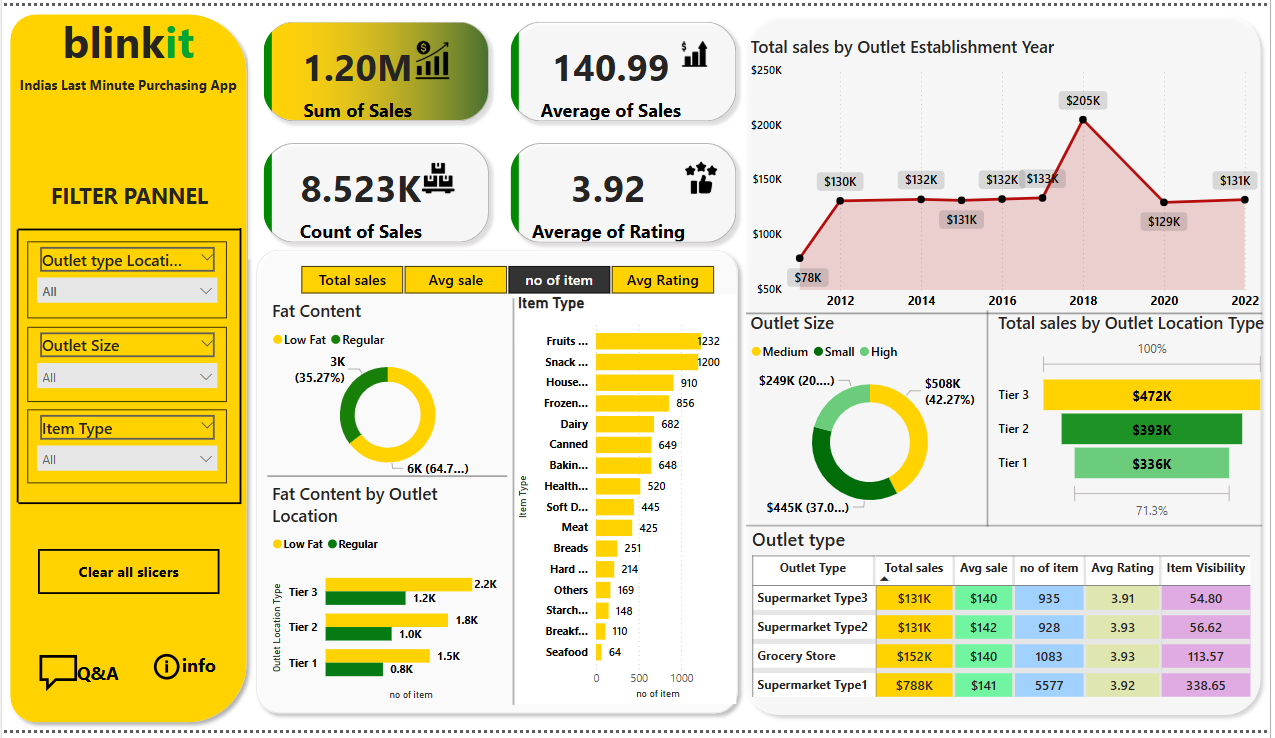

What the dashboard file says about the page in this screenshot:
{"tool":"powerbi","page":{"name":"Page 1","canvas":[1400,800],"ordinal":5},"visuals":[{"type":"shape","box":[0,0,279,799.9],"z":0},{"type":"textbox","box":[0,0,279,90.9],"z":1000},{"type":"textbox","box":[0,70.3,279,43.4],"z":2000},{"type":"cardVisual","fields":{"Data":["Sum(Table1.Sales)","Avg(Table1.Sales)","CountNonNull(Table1.Sales)","Avg(Table1.Rating)"]},"box":[271.6,0,556.5,279.9],"z":3000},{"type":"shape","box":[271.6,260,549.8,530],"z":4000},{"type":"donutChart","title":" Fat Content","fields":{"Y":["Table1.no of item"],"Category":["Table1.Item Fat Content"]},"box":[292.5,323.1,265.3,202.3],"z":5000},{"type":"slicer","fields":{"Values":["metrics  2.metrics "]},"box":[304.4,280.6,505,37.4],"z":6000},{"type":"clusteredBarChart","title":"Fat Content by Outlet Location ","fields":{"Y":["Table1.no of item"],"Category":["Table1.Outlet Location Type"],"Series":["Table1.Item Fat Content"]},"box":[292.5,525.4,258.5,246.6],"z":7000},{"type":"barChart","title":" Item Type","fields":{"Y":["Table1.no of item"],"Category":["Table1.Item Type"]},"box":[564.3,318.3,246,452.7],"z":8000},{"type":"shape","box":[293.1,513.4,265,11.6],"z":9000},{"type":"shape","box":[558.1,323,13.2,448.8],"z":10000},{"type":"shape","box":[810.6,0,588.8,791.9],"z":11000},{"type":"lineChart","fields":{"Y":["Table1.Total sales"],"Category":["Table1.Outlet Establishment Year"]},"box":[820.9,31.1,572.2,313],"z":12000},{"type":"donutChart","title":"Outlet Size","fields":{"Category":["Table1.Outlet Size"],"Y":["Table1.Total sales"]},"box":[820.9,335.8,273.6,236.3],"z":13000},{"type":"shape","box":[821.5,303.1,569.7,72.9],"z":14000},{"type":"funnel","fields":{"Category":["Table1.Outlet Location Type"],"Y":["Table1.Total sales"]},"box":[1094.6,335.8,304.7,236.3],"z":15000},{"type":"shape","box":[1081.5,336.2,13.2,238.5],"z":16000},{"type":"shape","box":[820.9,570.1,570.1,8.3],"z":17000},{"type":"pivotTable","title":"Outlet type","fields":{"Rows":["Table1.Outlet Type"],"Values":["Table1.Total sales","Table1.Avg sale","Table1.no of item","Table1.Avg Rating","Sum(Table1.Item Visibility)"]},"box":[823,574.2,572.2,226],"z":18000},{"type":"slicer","fields":{"Values":["Table1.Outlet Type"]},"box":[28.2,260,220.3,84.5],"z":19000},{"type":"slicer","fields":{"Values":["Table1.Outlet Size"]},"box":[28.2,354.4,220.3,82.8],"z":20000},{"type":"slicer","fields":{"Values":["Table1.Item Type"]},"box":[28.2,445.5,220.3,81.2],"z":21000},{"type":"shape","box":[6.6,246.8,21.5,301.4],"z":22000},{"type":"shape","box":[18.2,240.1,245.1,13.2],"z":23000},{"type":"shape","box":[18.2,538.3,245.1,21.5],"z":24000},{"type":"shape","box":[255,245.1,16.6,304.7],"z":25000},{"type":"textbox","box":[18.2,187.1,245.1,53],"z":26000},{"type":"actionButton","box":[28.2,702.2,112.6,67.9],"z":27000},{"type":"actionButton","box":[124.2,710.5,115.9,59.6],"z":28000},{"type":"actionButton","box":[39.7,599.5,200.4,49.7],"z":29000}]}

Visuals, with their boxes in screenshot pixels (x1, y1, x2, y2), scaled from the page's 1400x800 canvas onto the 1275x738 screenshot:
shape: 0/0/254/737
textbox: 0/0/254/84
textbox: 0/65/254/105
cardVisual - Sum(Table1.Sales) x Avg(Table1.Sales): 247/0/754/258
shape: 247/240/748/729
" Fat Content" donutChart: 266/298/508/485
slicer - metrics  2.metrics : 277/259/737/293
"Fat Content by Outlet Location " clusteredBarChart: 266/485/502/712
" Item Type" barChart: 514/294/738/711
shape: 267/474/508/484
shape: 508/298/520/712
shape: 738/0/1274/731
lineChart - Table1.Total sales x Table1.Outlet Establishment Year: 748/29/1269/317
"Outlet Size" donutChart: 748/310/997/528
shape: 748/280/1267/347
funnel - Table1.Outlet Location Type x Table1.Total sales: 997/310/1274/528
shape: 985/310/997/530
shape: 748/526/1267/534
"Outlet type" pivotTable: 750/530/1271/737
slicer - Table1.Outlet Type: 26/240/226/318
slicer - Table1.Outlet Size: 26/327/226/403
slicer - Table1.Item Type: 26/411/226/486
shape: 6/228/26/506
shape: 17/221/240/234
shape: 17/497/240/516
shape: 232/226/247/507
textbox: 17/173/240/221
actionButton: 26/648/128/710
actionButton: 113/655/219/710
actionButton: 36/553/219/599
